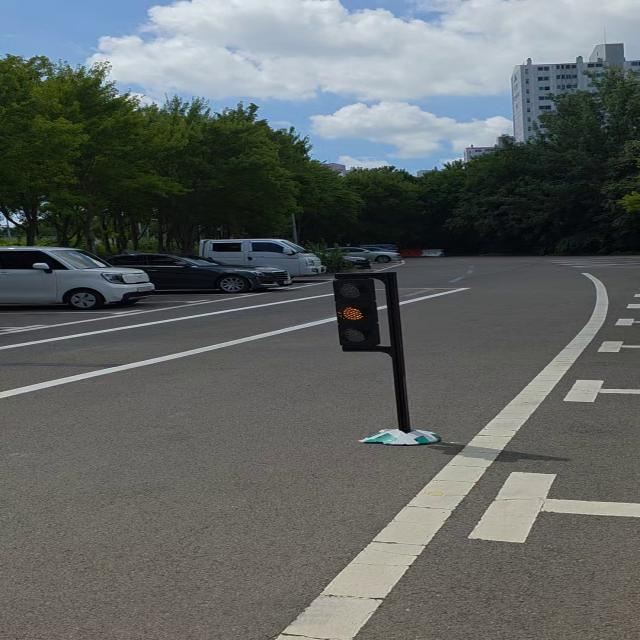yellow: (324, 274, 389, 356)
